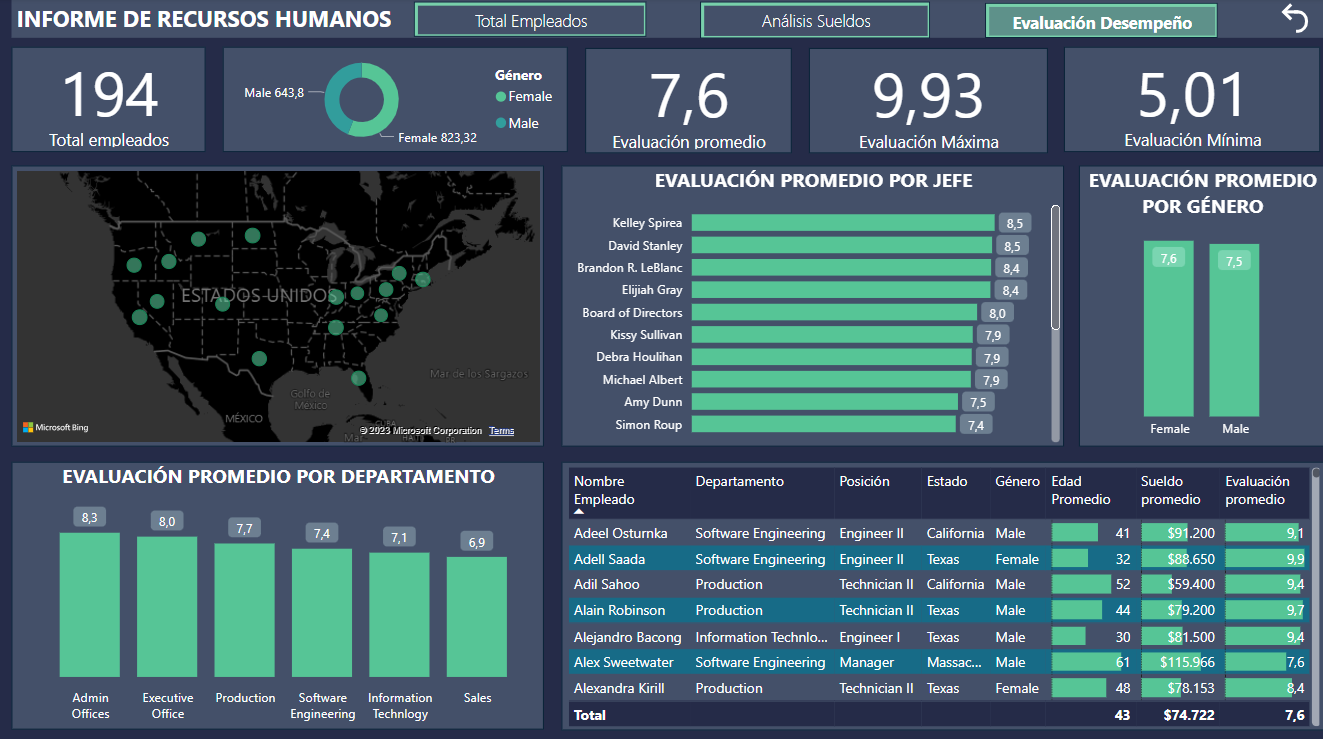

The page's visual inventory and layout, read from the dashboard file:
{"tool":"powerbi","page":{"name":"Evaluación Desempeño","canvas":[1280,720],"ordinal":2},"visuals":[{"type":"tableEx","fields":{"Values":["Tabla Empleados.Nombre Empleado","Tabla Empleados.Departamento","Tabla Empleados.Posición","Tabla Empleados.Estado","Tabla Empleados.Género","Tabla Empleados.Edad Promedio","Tabla Sueldo.Sueldo promedio","Tabla Evaluacion.Evaluación promedio"]},"box":[542.7,447.4,736.9,259.3],"z":0},{"type":"card","fields":{"Values":["Tabla Empleados.Total empleados"]},"box":[12.1,47,186.9,101.3],"z":1000},{"type":"columnChart","title":"EVALUACIÓN PROMEDIO POR DEPARTAMENTO","fields":{"Category":["Tabla Empleados.Departamento"],"Y":["Tabla Evaluacion.Evaluación promedio"]},"box":[12.1,447.4,513.8,258.1],"z":2000},{"type":"map","fields":{"Category":["Tabla Empleados.Estado"],"Size":["Tabla Evaluacion.Evaluación promedio"]},"box":[12.1,161.6,513.8,271.4],"z":3000},{"type":"card","fields":{"Values":["Max(Tabla Evaluacion.Evaluación)"]},"box":[781.4,47.7,230.1,101.6],"z":4000},{"type":"card","fields":{"Values":["Tabla Evaluacion.Evaluación promedio"]},"box":[565.8,47.7,199,101.6],"z":5000},{"type":"card","fields":{"Values":["Min(Tabla Evaluacion.Evaluación)"]},"box":[1027.5,47,247.2,101.3],"z":6000},{"type":"barChart","title":"EVALUACIÓN PROMEDIO POR JEFE","fields":{"Category":["Tabla Empleados.Nombre Jefe"],"Y":["Tabla Evaluacion.Evaluación promedio"]},"box":[542.7,161.6,484.8,271.4],"z":7000},{"type":"columnChart","title":"EVALUACIÓN PROMEDIO POR GÉNERO","fields":{"Category":["Tabla Empleados.Género"],"Y":["Tabla Evaluacion.Evaluación promedio"]},"box":[1042,161.6,237.6,271.4],"z":8000},{"type":"textbox","title":"INFORME DE RECURSOS HUMANOS","box":[12.1,0,1267.5,38.6],"z":9000},{"type":"actionButton","box":[400.4,3.3,224.3,33.8],"z":10000},{"type":"actionButton","box":[951.6,4.8,224.3,33.8],"z":11000},{"type":"actionButton","box":[677.2,3.6,221.9,35],"z":12000},{"type":"donutChart","fields":{"Category":["Tabla Empleados.Género"],"Y":["Sum(Tabla Evaluacion.Evaluación)"]},"box":[215.6,47,332.9,101.3],"z":13000},{"type":"actionButton","box":[1221.7,0,57.9,38.6],"z":13001}]}

Visuals, with their boxes in screenshot pixels (x1, y1, x2, y2), scaled from the page's 1280x720 canvas onto the 1323x739 screenshot:
tableEx - Tabla Empleados.Nombre Empleado x Tabla Empleados.Departamento: (left=561, top=459, right=1322, bottom=725)
card - Tabla Empleados.Total empleados: (left=13, top=48, right=206, bottom=152)
"EVALUACIÓN PROMEDIO POR DEPARTAMENTO" columnChart: (left=13, top=459, right=544, bottom=724)
map - Tabla Empleados.Estado x Tabla Evaluacion.Evaluación promedio: (left=13, top=166, right=544, bottom=444)
card - Max(Tabla Evaluacion.Evaluación): (left=808, top=49, right=1045, bottom=153)
card - Tabla Evaluacion.Evaluación promedio: (left=585, top=49, right=790, bottom=153)
card - Min(Tabla Evaluacion.Evaluación): (left=1062, top=48, right=1318, bottom=152)
"EVALUACIÓN PROMEDIO POR JEFE" barChart: (left=561, top=166, right=1062, bottom=444)
"EVALUACIÓN PROMEDIO POR GÉNERO" columnChart: (left=1077, top=166, right=1322, bottom=444)
"INFORME DE RECURSOS HUMANOS" textbox: (left=13, top=0, right=1322, bottom=40)
actionButton: (left=414, top=3, right=646, bottom=38)
actionButton: (left=984, top=5, right=1215, bottom=40)
actionButton: (left=700, top=4, right=929, bottom=40)
donutChart - Tabla Empleados.Género x Sum(Tabla Evaluacion.Evaluación): (left=223, top=48, right=567, bottom=152)
actionButton: (left=1263, top=0, right=1322, bottom=40)
